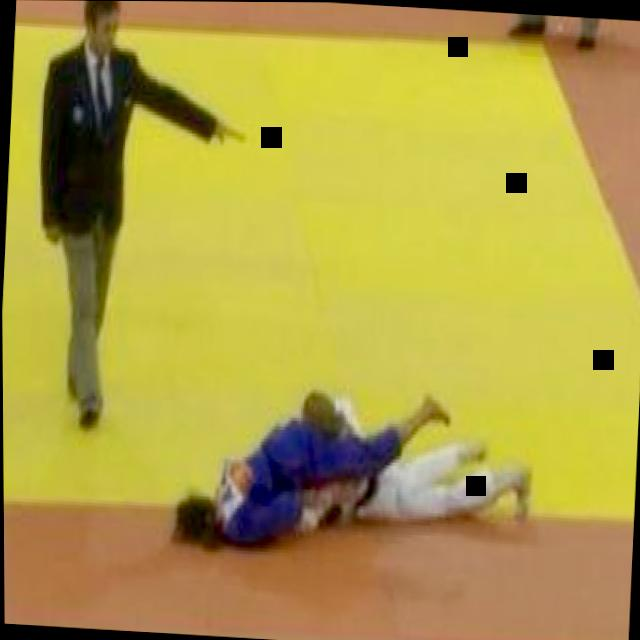Fall-Detected: (152, 345, 473, 570)
